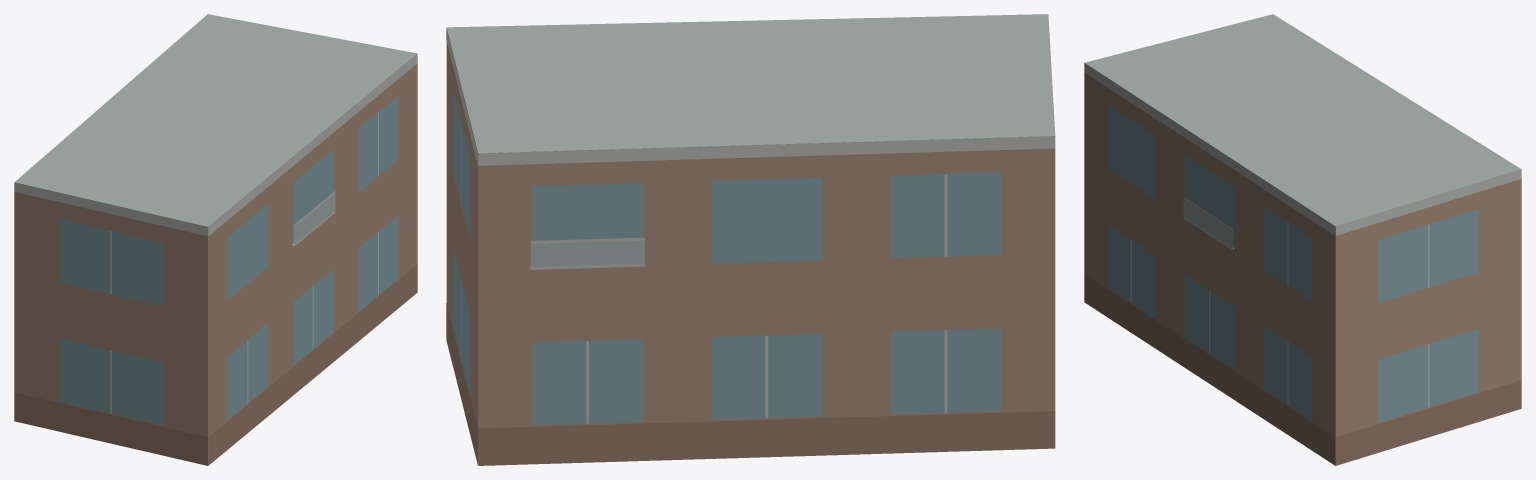
The model's file is survey-upis-32956185.glb.
3 renders of one model, left to right at view 1: azimuth 30°, elevation 25°; view 2: azimuth 150°, elevation 25°; view 3: azimuth 270°, elevation 25°, orthographic. The views are drawn at different scales.
Parts seen in each view (by area): view 1: survey-upis-32956185.tmp; view 2: survey-upis-32956185.tmp; view 3: survey-upis-32956185.tmp.
Part boxes in pixels (left/top/right/bottom): survey-upis-32956185.tmp: left=14, top=14, right=417, bottom=465; survey-upis-32956185.tmp: left=446, top=14, right=1055, bottom=465; survey-upis-32956185.tmp: left=1084, top=14, right=1521, bottom=465.
Bounding box in the file's own units: 11.62 × 6.1 × 10.11.
